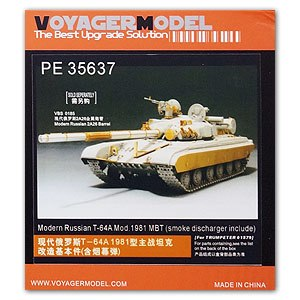Battle Tank: (67, 102, 254, 196)
